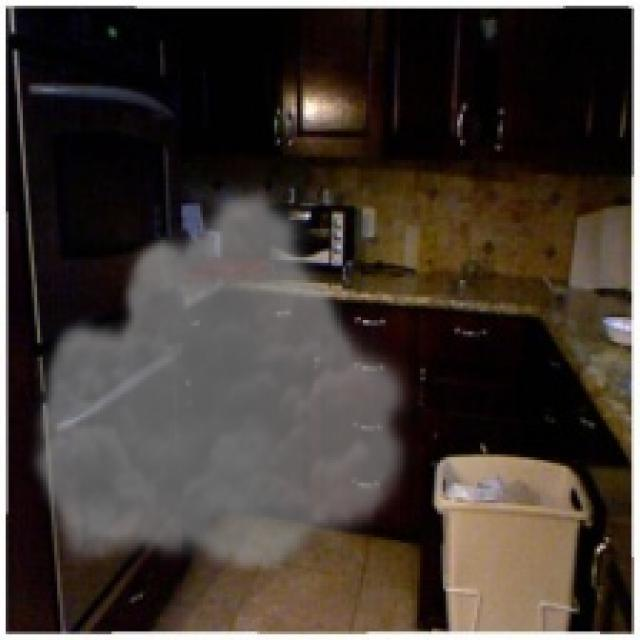Smoke: (26, 180, 420, 577)
